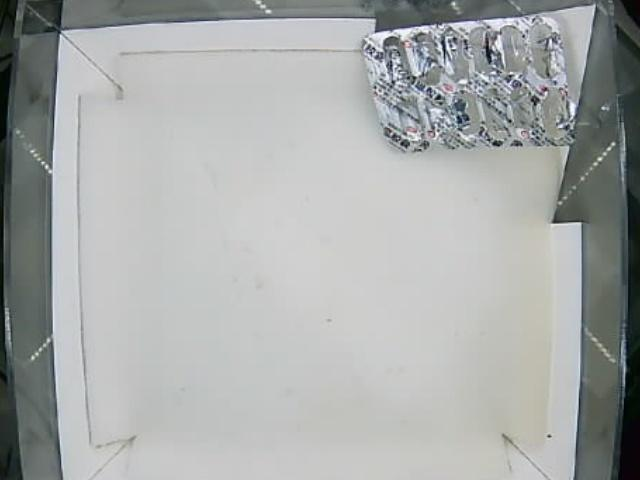Medicine: (361, 14, 576, 159)
